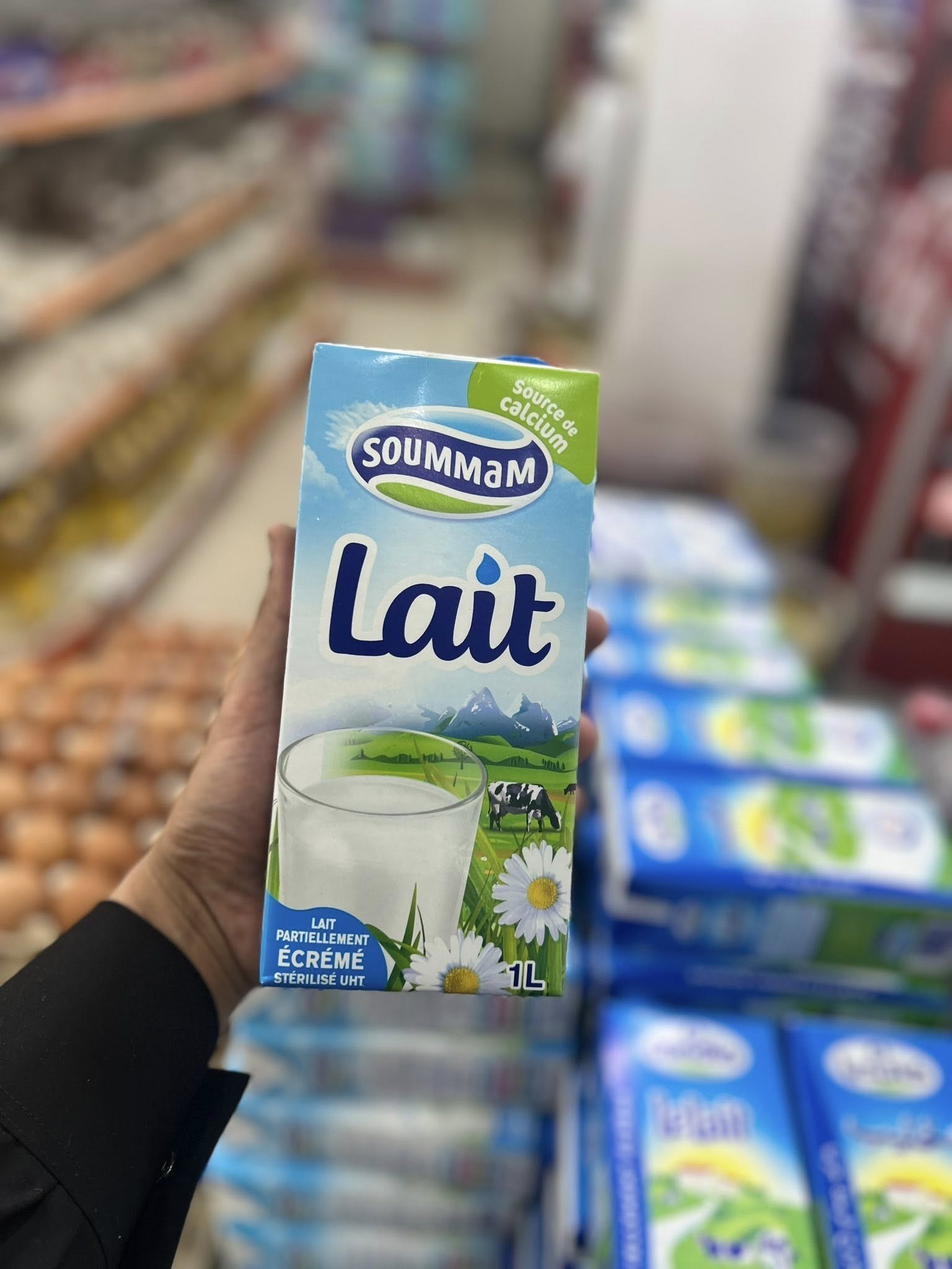soummam_milk: (244, 338, 603, 1012)
